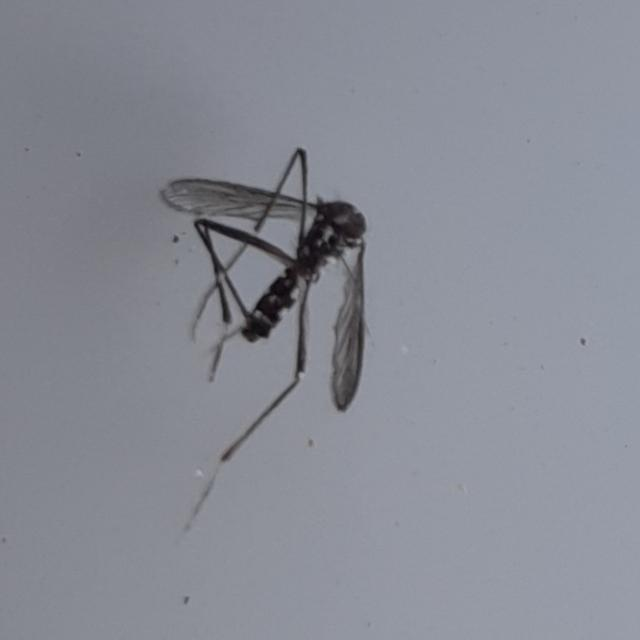albopictus: (153, 134, 382, 538)
